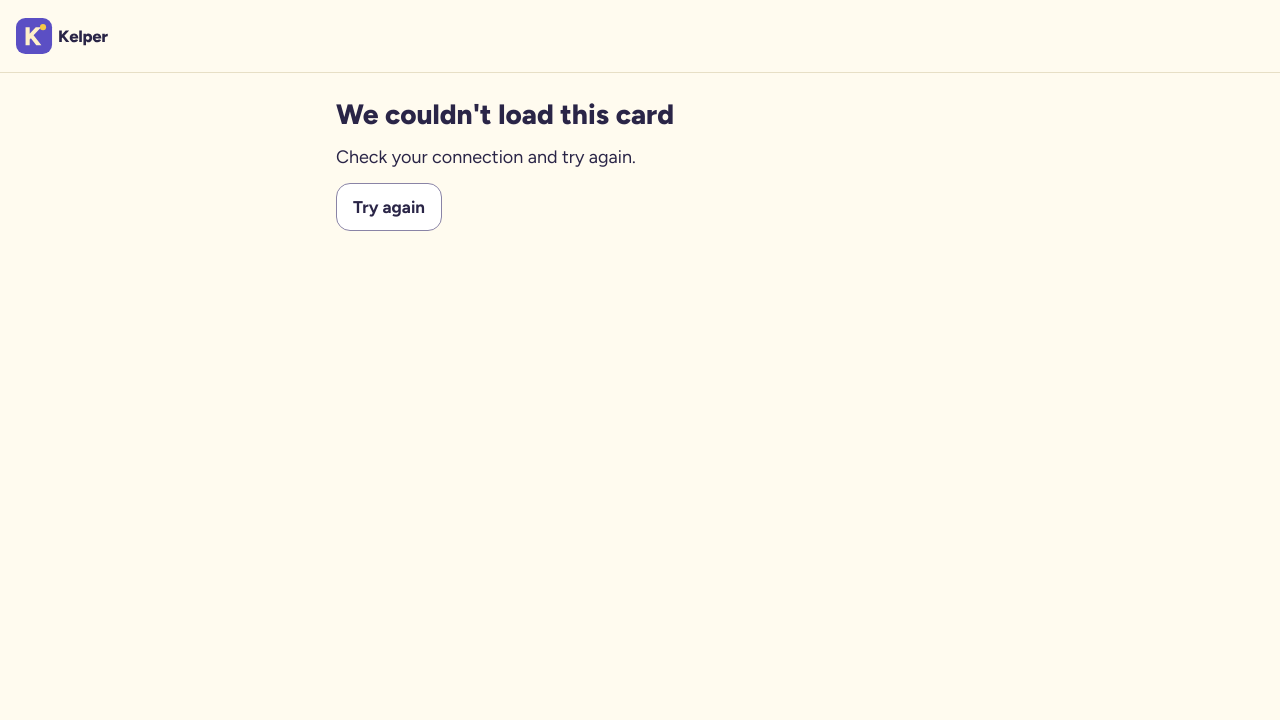
Test case: public care card page › offers retry on a network failure and recovers
Click the button "Try again": (389, 207) [336, 183, 442, 231]
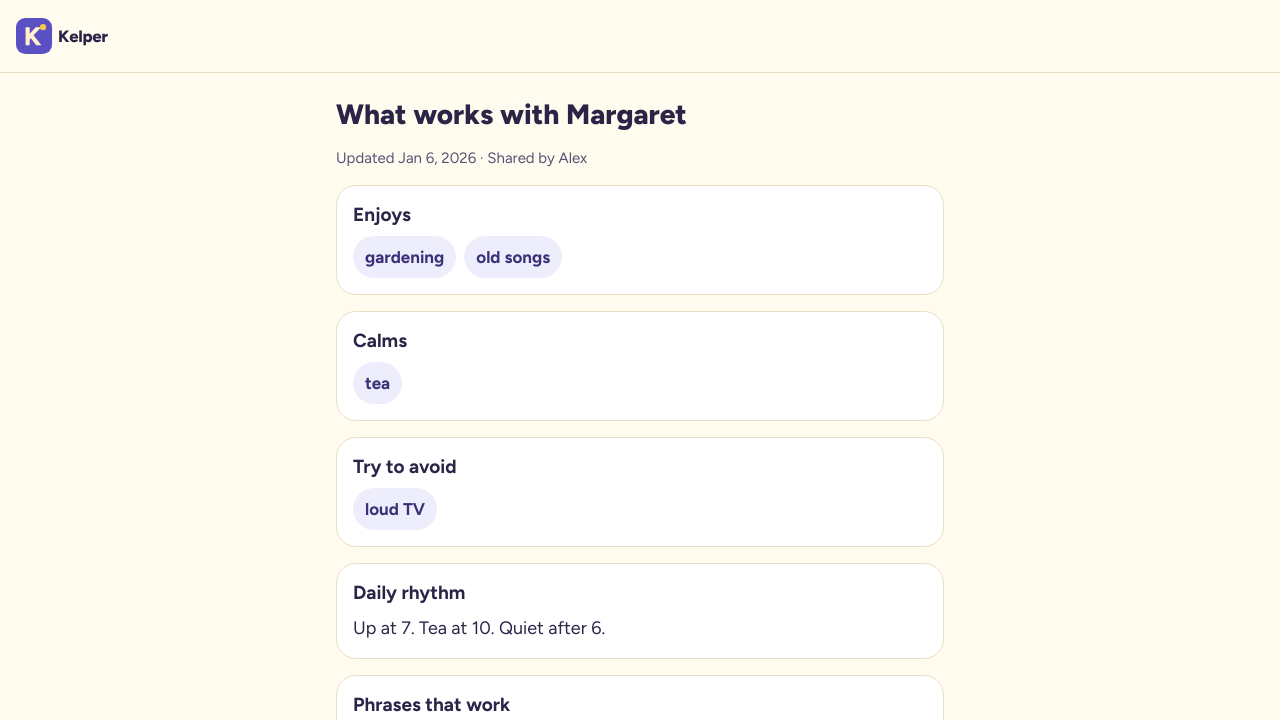
Expected: the heading "What works with Margaret" is shown, [336, 97, 687, 131]
